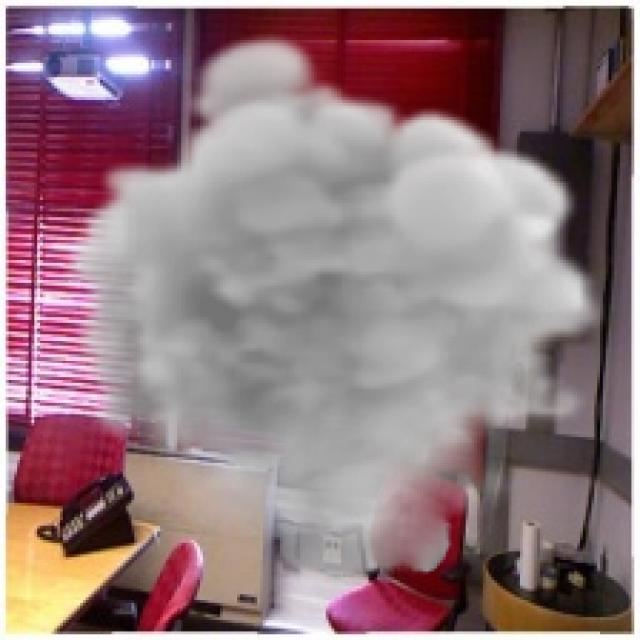smoke: (63, 28, 606, 583)
